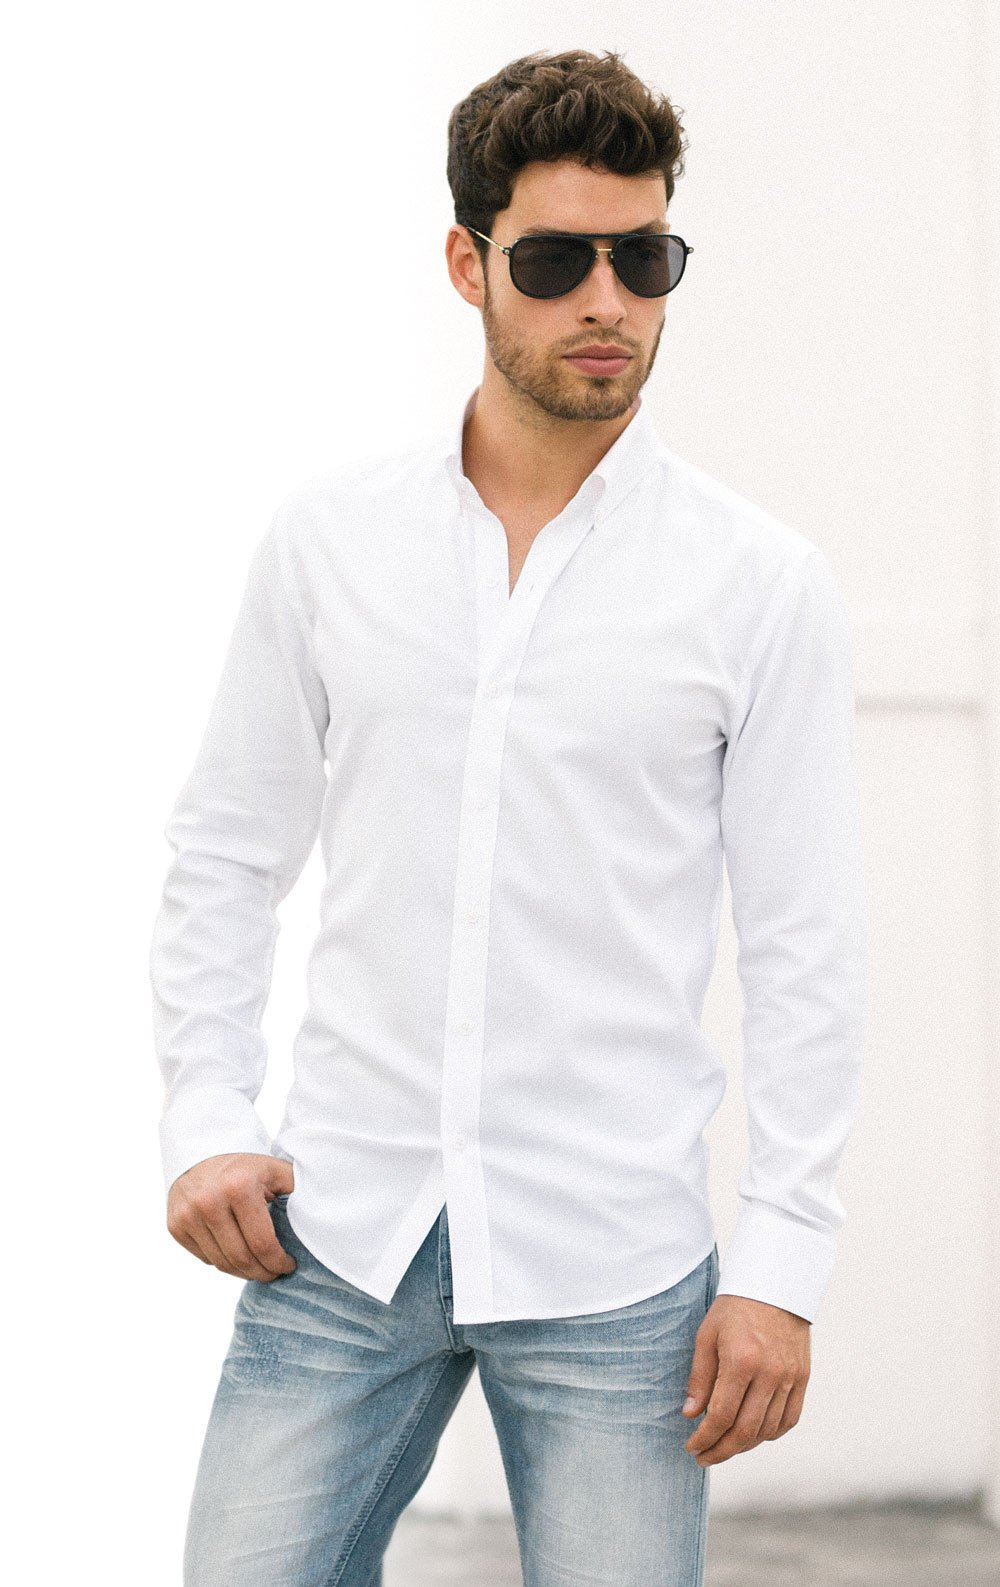NOTSAFE: (282, 46, 740, 1304)
